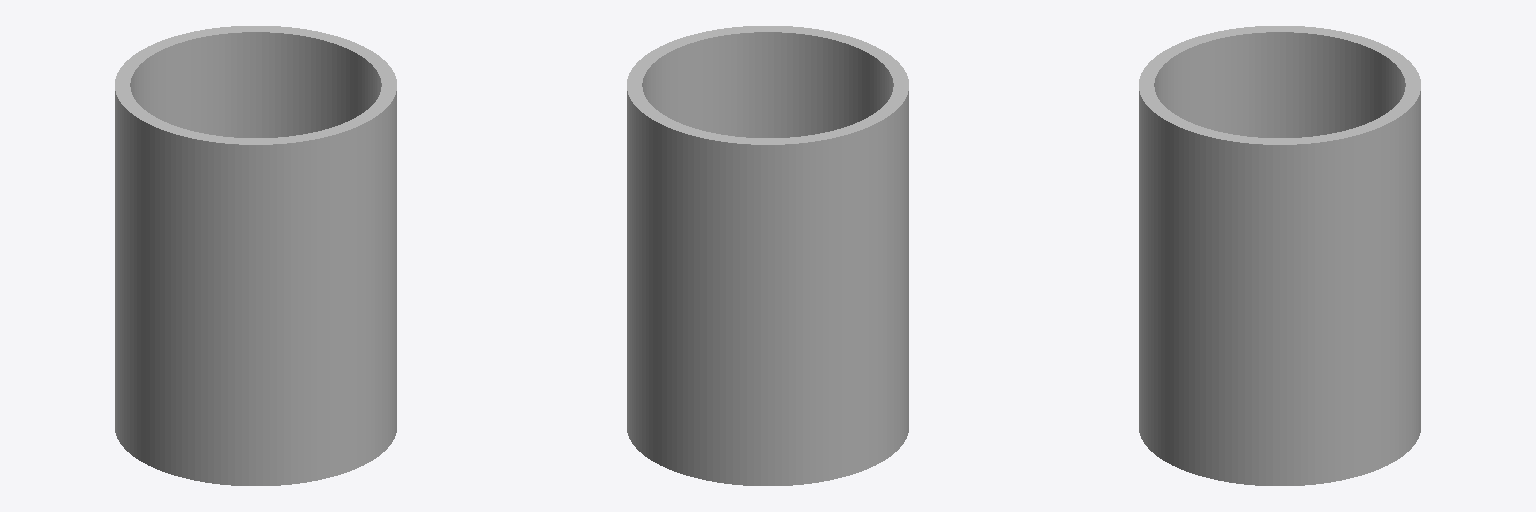
The model's file is becher1.obj.
3 renders of one model, left to right at view 1: azimuth 30°, elevation 25°; view 2: azimuth 150°, elevation 25°; view 3: azimuth 270°, elevation 25°, orthographic.
Visible parts, largest first — view 1: becher1; view 2: becher1; view 3: becher1.
Part boxes in pixels (x1,y1,x2,y2): becher1: (115, 26, 396, 485); becher1: (627, 26, 908, 485); becher1: (1139, 26, 1420, 485).
Size of the model in its own units: 2.7 by 3.6 by 2.7.